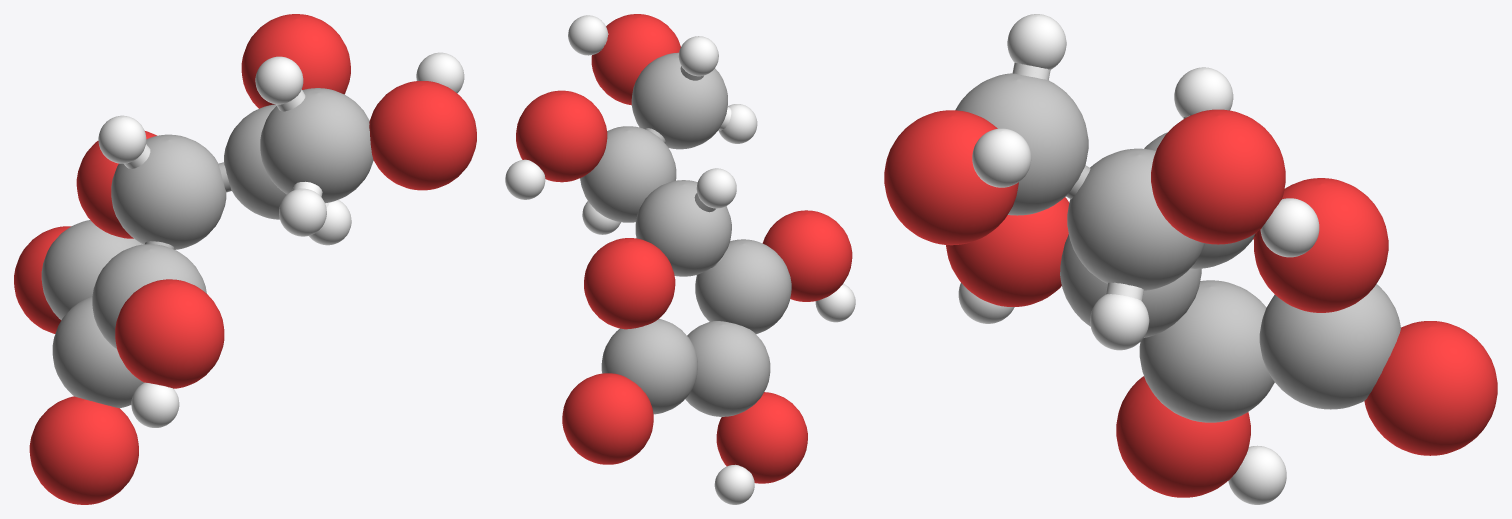
File: vitaC.glb
3 views of the same model, side by side, from view 1: azimuth 30°, elevation 25°; view 2: azimuth 150°, elevation 25°; view 3: azimuth 270°, elevation 25° (orthographic). The views are drawn at different scales.
Visible parts, largest first — view 1: Carbon_ball_2, Carbon_ball_10, Oxygen_ball_6, Oxygen_ball_10, Oxygen_ball_4, Oxygen_ball_8, Carbon_ball_6, Carbon_ball, Carbon_ball_4, Carbon_ball_8, Oxygen_ball, Oxygen_ball_2 (+9 smaller); view 2: Oxygen_ball_2, Oxygen_ball, Carbon_ball_4, Carbon_ball_10, Oxygen_ball_8, Carbon_ball_6, Carbon_ball_2, Carbon_ball_8, Carbon_ball, Oxygen_ball_4, Oxygen_ball_6, Oxygen_ball_10 (+8 smaller); view 3: Oxygen_ball_8, Carbon_ball_6, Oxygen_ball_2, Oxygen_ball_10, Carbon_ball_8, Carbon_ball, Oxygen_ball, Oxygen_ball_4, Carbon_ball_10, Oxygen_ball_6, Carbon_ball_4, Hydrogen_ball_14 (+11 smaller).
Part boxes in pixels (x1,y1,x2,y2): Carbon_ball_2: (111,134,226,249); Carbon_ball_10: (260,88,373,203); Oxygen_ball_6: (115,279,224,388); Oxygen_ball_10: (369,81,476,190); Oxygen_ball_4: (29,396,138,504); Oxygen_ball_8: (241,14,350,108); Carbon_ball_6: (52,296,143,408); Carbon_ball: (41,220,143,320); Carbon_ball_4: (92,244,206,348); Carbon_ball_8: (224,104,286,219); Oxygen_ball: (76,131,156,238); Oxygen_ball_2: (14,226,70,333); Oxygen_ball_2: (562,373,653,464); Oxygen_ball: (584,238,675,329); Carbon_ball_4: (695,239,791,334); Carbon_ball_10: (631,52,727,149); Oxygen_ball_8: (516,90,607,182); Carbon_ball_6: (685,321,770,416); Carbon_ball_2: (635,180,731,276); Carbon_ball_8: (580,126,676,222); Carbon_ball: (601,319,697,414); Oxygen_ball_4: (716,392,807,483); Oxygen_ball_6: (762,210,852,301); Oxygen_ball_10: (591,14,680,105); Oxygen_ball_8: (1151,109,1285,244); Carbon_ball_6: (1139,280,1274,422); Oxygen_ball_2: (1364,321,1497,455); Oxygen_ball_10: (884,110,1018,245); Carbon_ball_8: (1067,148,1205,290); Carbon_ball: (1259,284,1400,409); Oxygen_ball: (1254,178,1388,312); Oxygen_ball_4: (1116,376,1250,497); Carbon_ball_10: (955,73,1088,215); Oxygen_ball_6: (946,197,1069,306); Carbon_ball_4: (1060,234,1201,337); Hydrogen_ball_14: (972,128,1031,187).
Size of the model in its own units: 5.38 by 6.74 by 6.63.
